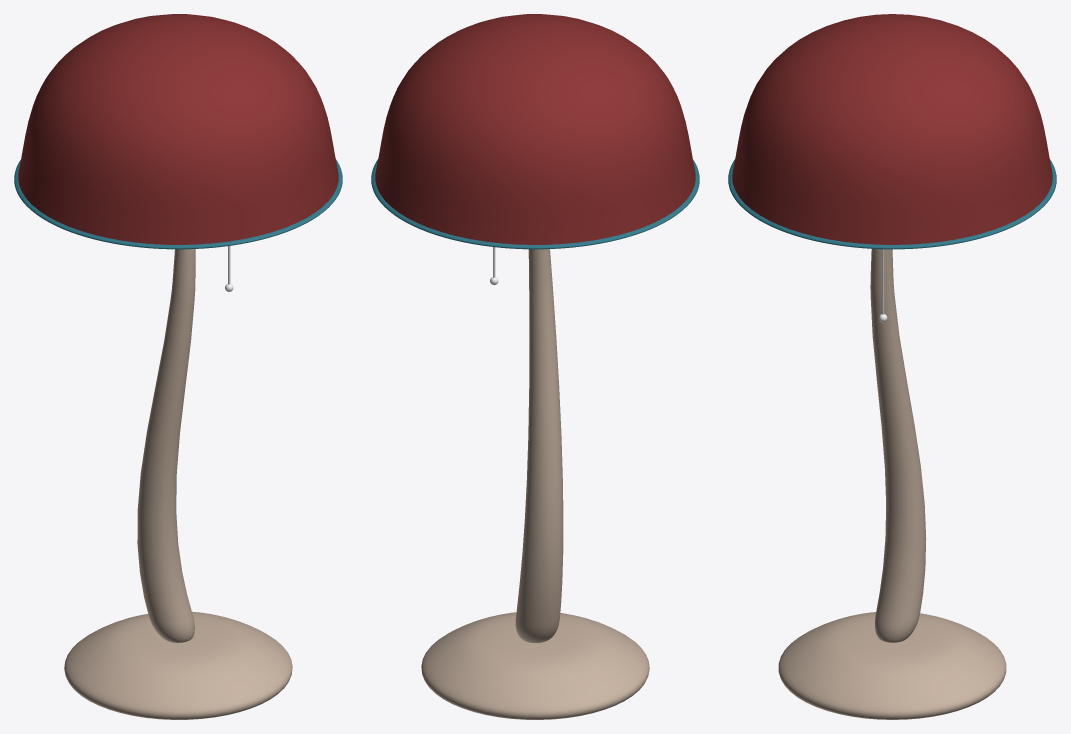
File: Floorlamp_mushroom_Fbx.FBX
3 views of the same model, side by side, from view 1: azimuth 30°, elevation 25°; view 2: azimuth 150°, elevation 25°; view 3: azimuth 270°, elevation 25° (orthographic).
Parts seen in each view (by area): view 1: lampshade top, bottom, body, lampshade piece; view 2: lampshade top, bottom, body, lampshade piece; view 3: lampshade top, bottom, body, lampshade piece.
Part boxes in pixels (x1=…): lampshade top: x1=18, y1=14, x2=338, y2=244; bottom: x1=64, y1=611, x2=292, y2=719; body: x1=137, y1=249, x2=195, y2=642; lampshade piece: x1=14, y1=159, x2=342, y2=249; lampshade top: x1=375, y1=14, x2=695, y2=244; bottom: x1=421, y1=612, x2=649, y2=719; body: x1=515, y1=249, x2=563, y2=642; lampshade piece: x1=371, y1=159, x2=699, y2=249; lampshade top: x1=732, y1=14, x2=1052, y2=244; bottom: x1=778, y1=612, x2=1006, y2=719; body: x1=870, y1=249, x2=926, y2=642; lampshade piece: x1=728, y1=159, x2=1056, y2=249.
Size of the model in its own units: 77.6 by 167 by 77.6.
